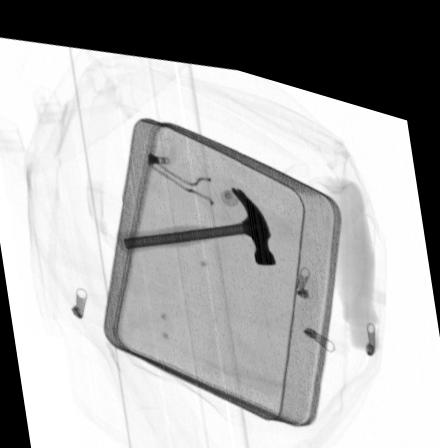Hammer: (116, 171, 279, 249)
